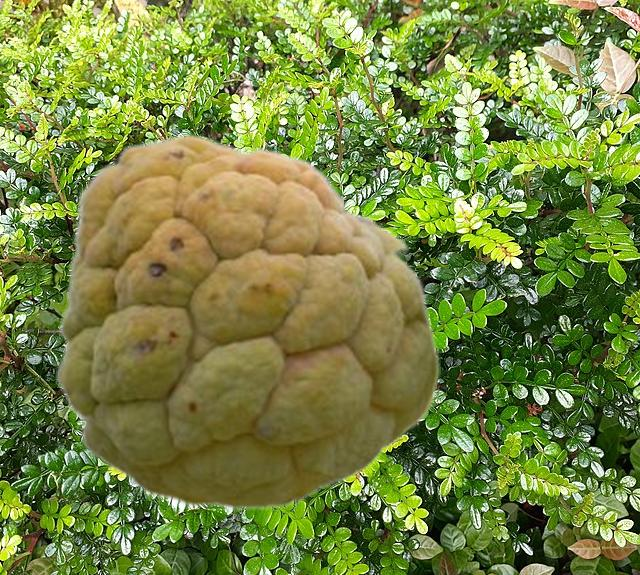atis: (54, 132, 439, 509)
